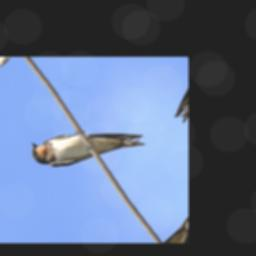Swallow: (24, 96, 149, 194)
